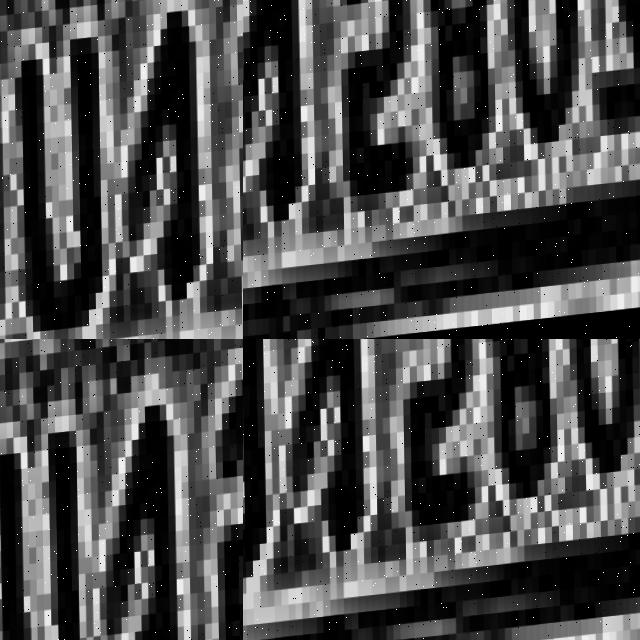license-plate: (243, 0, 640, 329), (243, 339, 640, 640), (0, 0, 243, 339), (0, 339, 243, 640)
